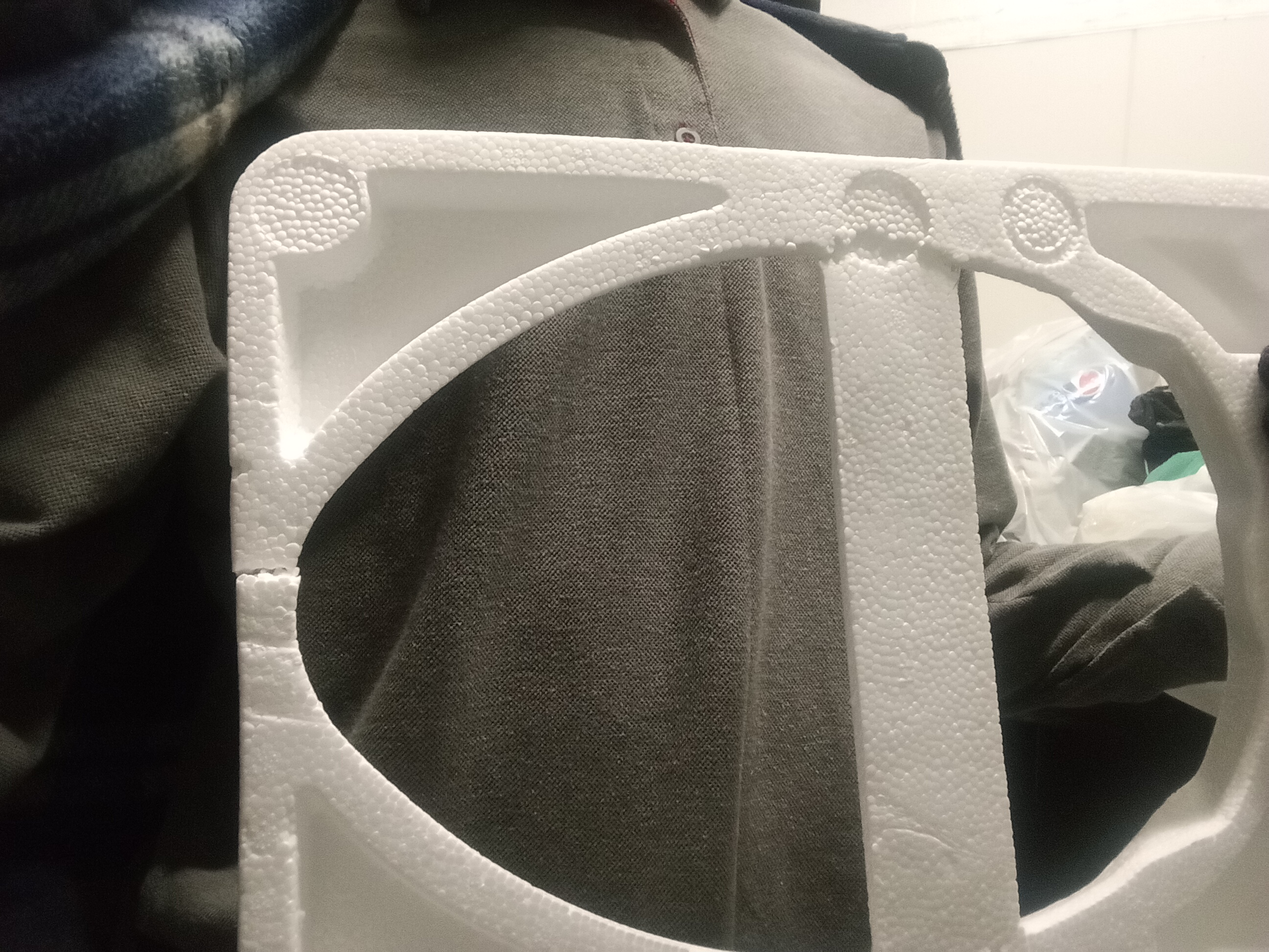Ordinario: (226, 130, 1269, 952)
